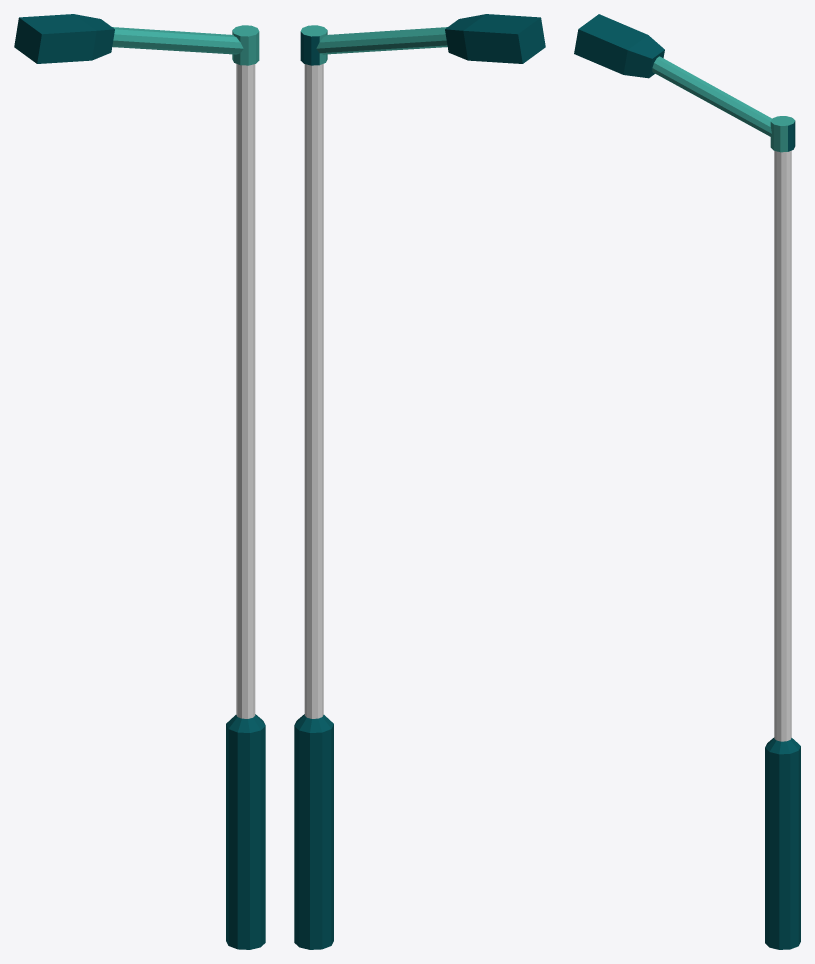
The model's file is StreetLamp1_d_LP_LOD0.FBX.
3 views of the same model, side by side, from view 1: azimuth 30°, elevation 25°; view 2: azimuth 150°, elevation 25°; view 3: azimuth 330°, elevation 25° (orthographic). The views are drawn at different scales.
Parts seen in each view (by area): view 1: StreetLamp1_d_LP_LOD0; view 2: StreetLamp1_d_LP_LOD0; view 3: StreetLamp1_d_LP_LOD0.
Boxes of the visible parts, left/top/right/bottom form: StreetLamp1_d_LP_LOD0: left=14, top=14, right=265, bottom=949; StreetLamp1_d_LP_LOD0: left=294, top=14, right=545, bottom=949; StreetLamp1_d_LP_LOD0: left=574, top=14, right=800, bottom=949.
Bounding box in the file's own units: 2.6 × 10.13 × 0.4358.
